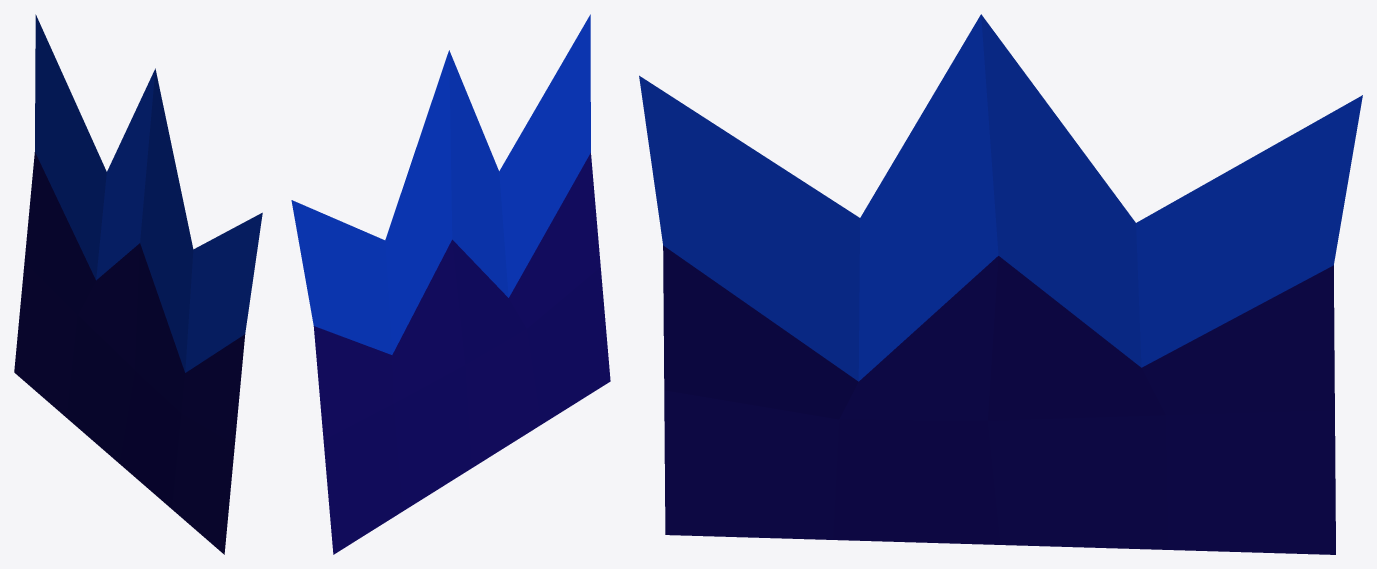
File: Herbe 3.fbx
The picture shows the model from 3 angles, left to right: view 1: azimuth 30°, elevation 25°; view 2: azimuth 150°, elevation 25°; view 3: azimuth 270°, elevation 25°; orthographic projection. The views are drawn at different scales.
Visible parts, largest first — view 1: Plane.001; view 2: Plane.001; view 3: Plane.001.
Part boxes in pixels (x1=…): Plane.001: x1=14, y1=14, x2=262, y2=554; Plane.001: x1=291, y1=14, x2=610, y2=554; Plane.001: x1=639, y1=14, x2=1362, y2=554.
Size of the model in its own units: 10.61 by 66.15 by 78.79.
